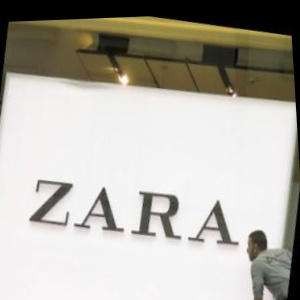zara: (220, 89, 262, 243)
